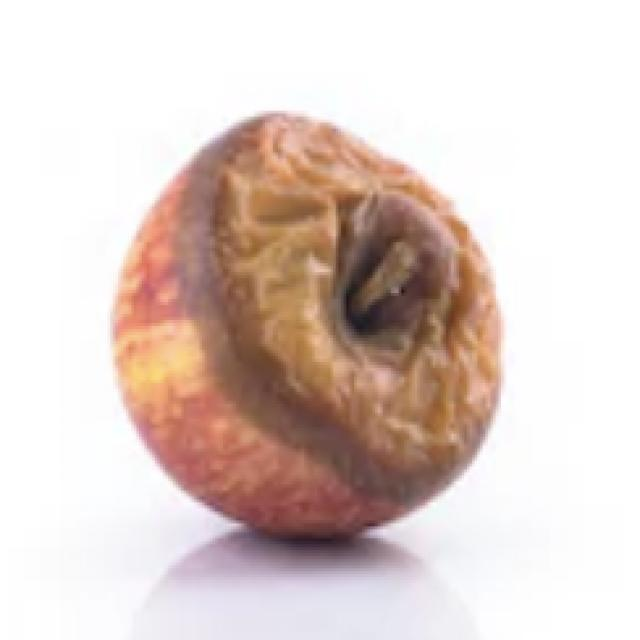Rotten: (105, 115, 515, 555)
